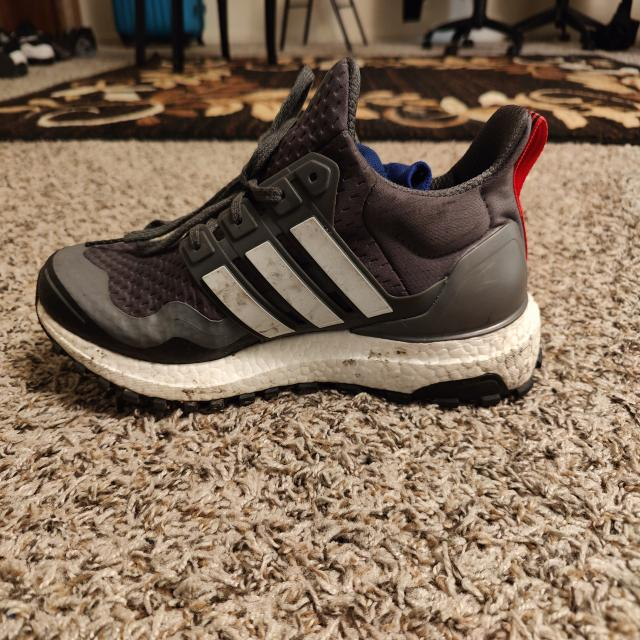black shoes: (35, 60, 540, 402)
